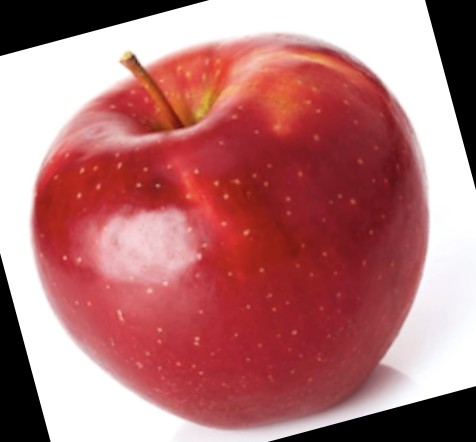fresh_apple: (33, 35, 430, 428)
